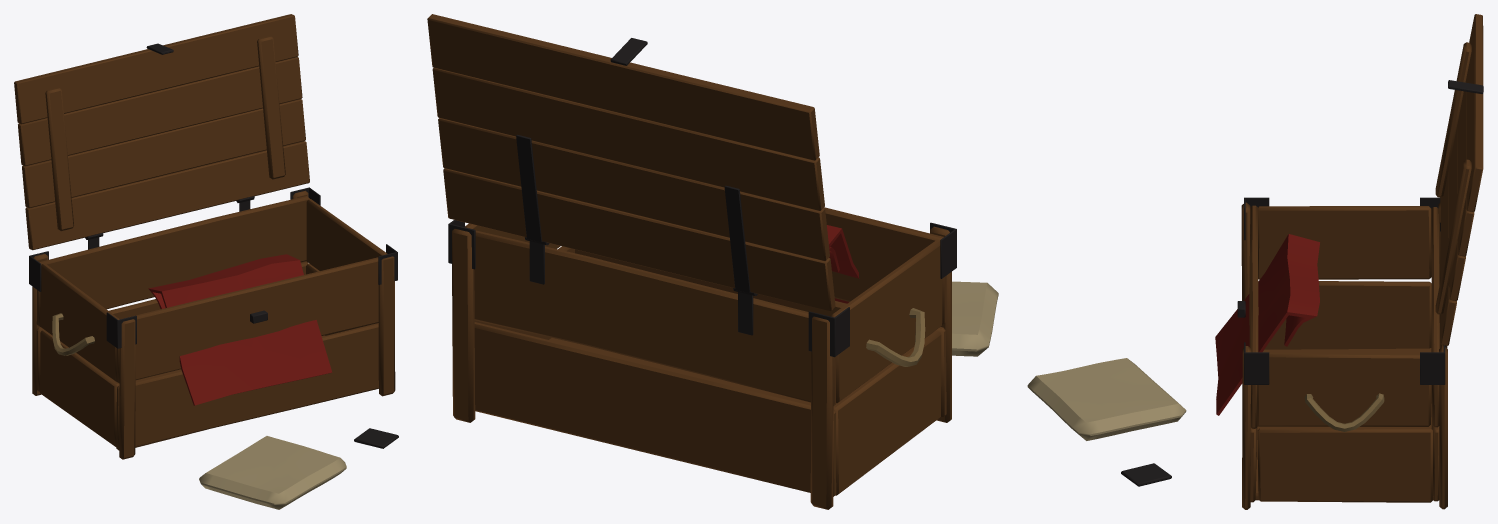
Rendered from truhe_kaputt.glb.
The picture shows the model from 3 angles, left to right: view 1: azimuth 30°, elevation 25°; view 2: azimuth 150°, elevation 25°; view 3: azimuth 270°, elevation 25°; orthographic projection. The views are drawn at different scales.
Visible parts, largest first — view 1: truhe_kaputt; view 2: truhe_kaputt; view 3: truhe_kaputt.
Boxes of the visible parts, left/top/right/bottom form: truhe_kaputt: left=14, top=14, right=398, bottom=509; truhe_kaputt: left=427, top=14, right=998, bottom=509; truhe_kaputt: left=1027, top=14, right=1483, bottom=509.
Size of the model in its own units: 1.03 by 0.9805 by 1.15.
